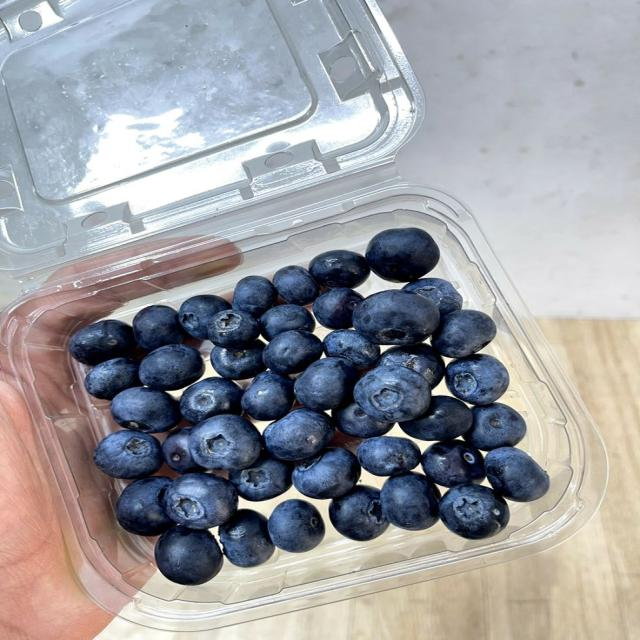blueberry: (353, 290, 439, 345), (354, 366, 430, 422), (166, 473, 238, 529), (155, 526, 223, 585), (366, 228, 439, 282), (189, 415, 260, 470), (440, 485, 509, 539), (263, 408, 334, 460), (115, 477, 174, 536), (294, 357, 358, 411), (293, 448, 360, 499), (486, 447, 549, 501), (380, 473, 439, 530), (94, 431, 162, 479), (400, 396, 472, 441), (111, 387, 181, 433), (329, 486, 388, 540), (446, 355, 509, 405), (220, 510, 274, 567), (432, 310, 496, 358), (229, 453, 292, 501), (268, 500, 325, 552), (139, 345, 204, 390), (464, 403, 526, 450), (379, 344, 445, 388), (69, 320, 135, 364), (422, 441, 485, 487), (180, 378, 242, 424), (263, 331, 322, 375), (242, 371, 293, 420), (358, 436, 420, 476), (133, 305, 186, 350), (309, 250, 370, 288), (179, 295, 230, 339), (323, 330, 380, 369), (85, 358, 139, 399), (403, 278, 462, 315), (211, 340, 266, 379), (333, 403, 393, 438), (313, 288, 363, 329), (208, 310, 259, 348), (162, 428, 204, 474), (260, 305, 315, 340), (233, 276, 277, 317), (274, 266, 319, 305)
